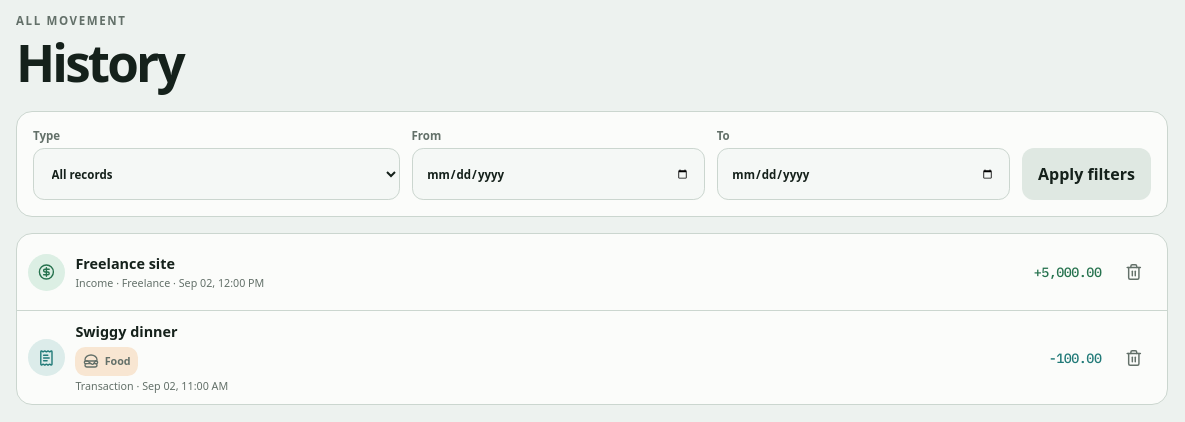
it: HistoryPage Income records › renders categorized spending and signed presentation while keeping stored amounts positive
Expected: the text "Freelance site" is shown, x1=75 y1=254 x2=175 y2=273
Expected: the text "+5,000.00" is shown, x1=1034 y1=263 x2=1101 y2=281
Select "Income" in the dropdown labelled "Type": (216, 174) x1=33 y1=148 x2=400 y2=200
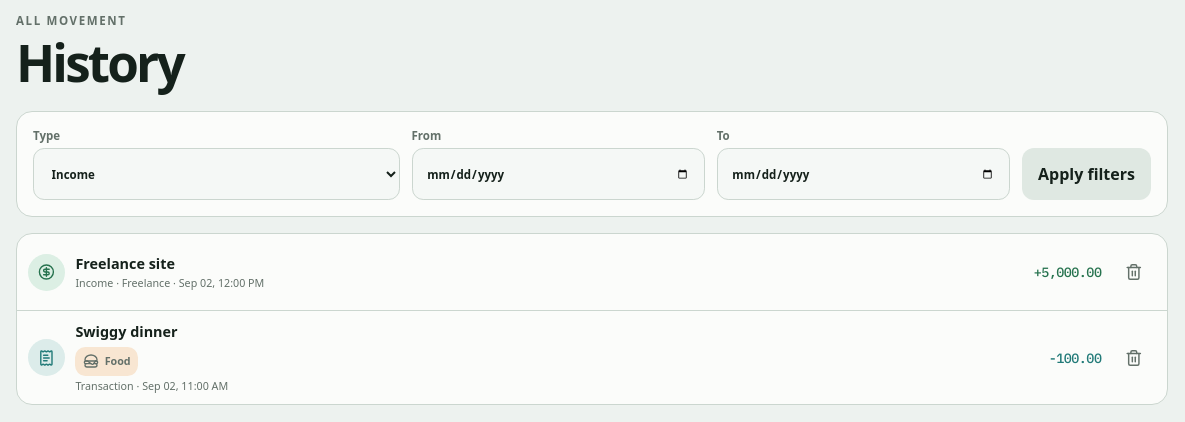
Click the button "Apply filters": (1086, 174) x1=1022 y1=148 x2=1151 y2=200
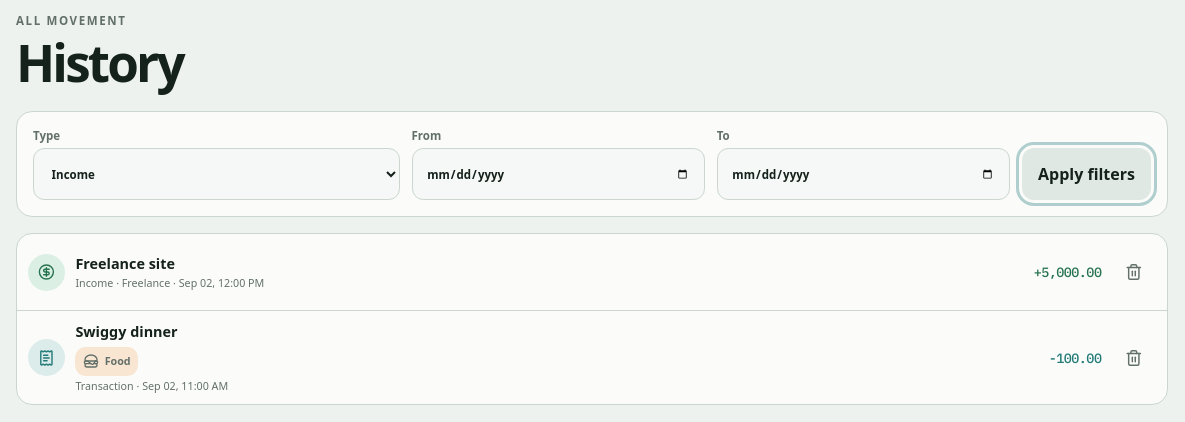
Click the button named "Delete Freelance site": (1134, 272) x1=1112 y1=250 x2=1156 y2=294
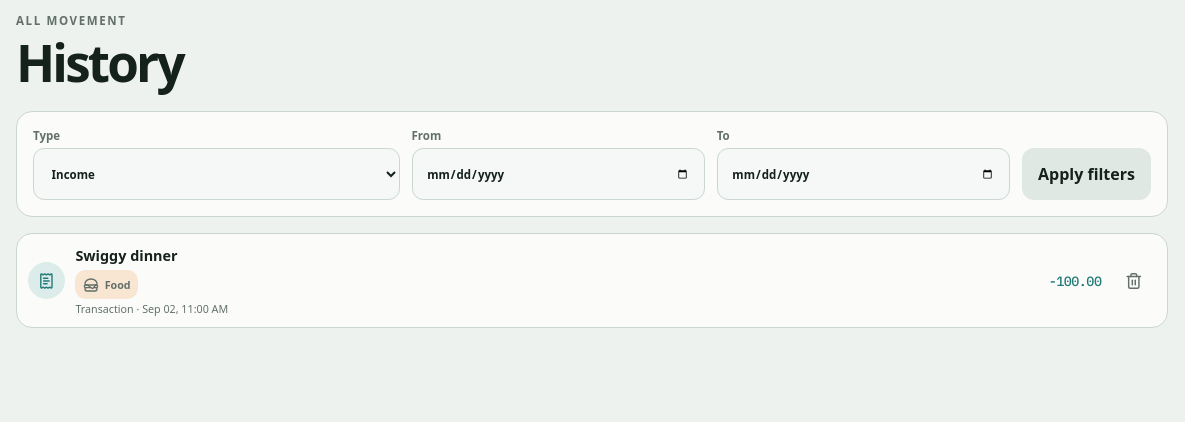
Expected: the text "Freelance site" is gone
